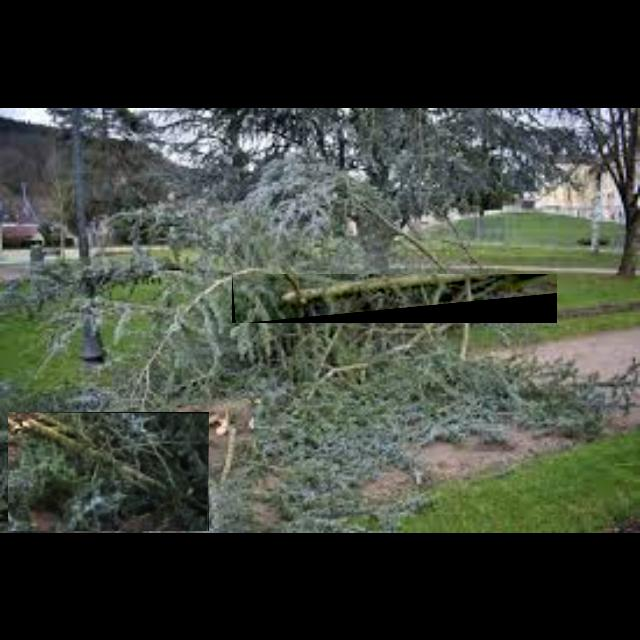Fallen Tree: (8, 412, 210, 532), (232, 274, 558, 324)
